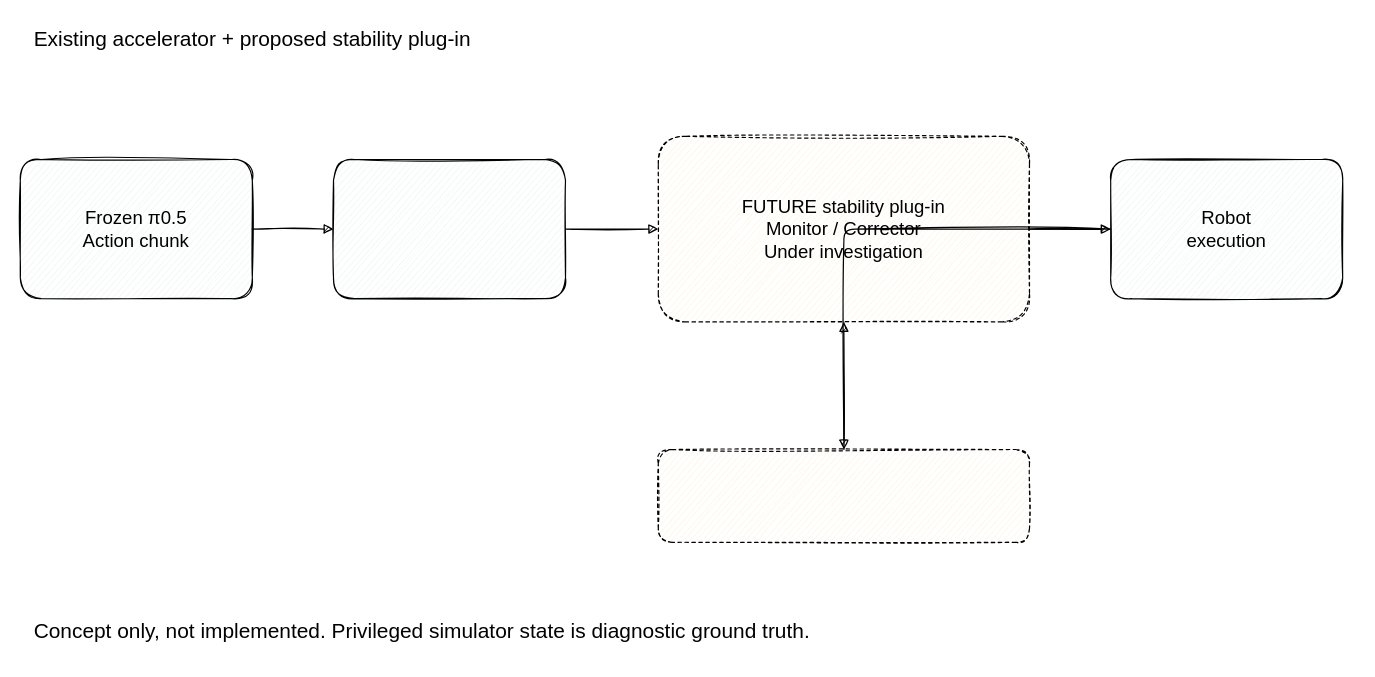
Image size: 1375x677. Some labels were removed from this diagram. Each missing label, with the centre of its shape:
"Execution feedback Signals to be determined" goes at (843,495).
"Existing accelerator" goes at (449,228).
